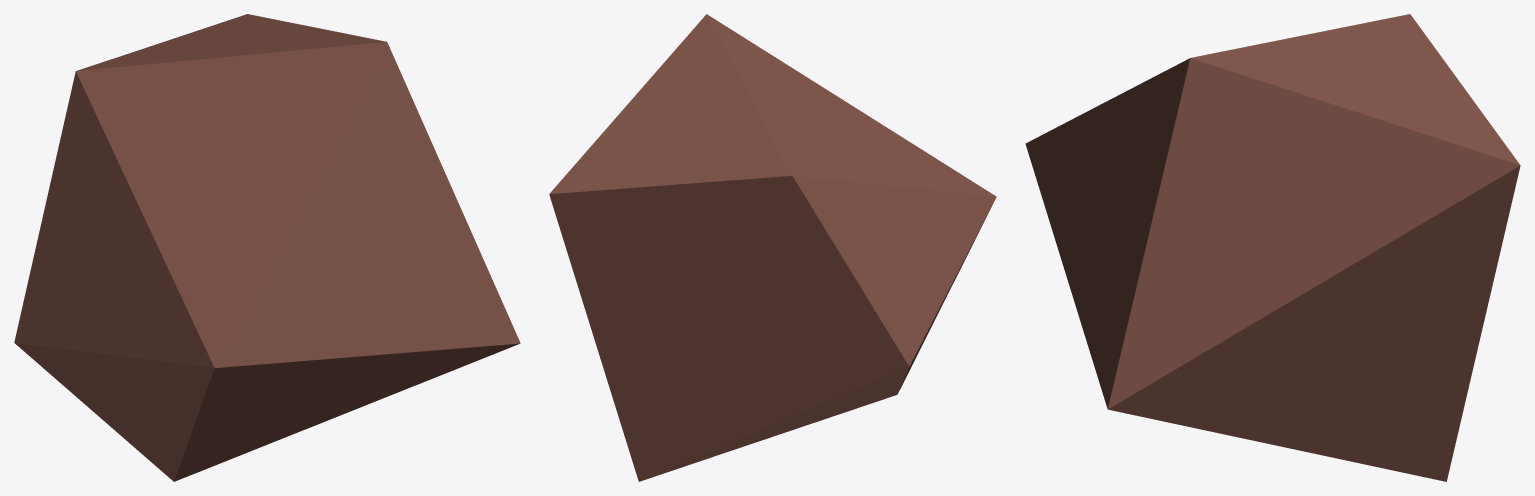
The model's file is Rock2.fbx.
3 views of the same model, side by side, from view 1: azimuth 30°, elevation 25°; view 2: azimuth 150°, elevation 25°; view 3: azimuth 270°, elevation 25° (orthographic). The views are drawn at different scales.
Visible parts, largest first — view 1: Rock2; view 2: Rock2; view 3: Rock2.
Part boxes in pixels (bbox=[...]): Rock2: bbox=[14, 14, 520, 481]; Rock2: bbox=[549, 14, 996, 481]; Rock2: bbox=[1025, 14, 1520, 481].
Bounding box in the file's own units: 0.3835 × 0.4013 × 0.4025.
